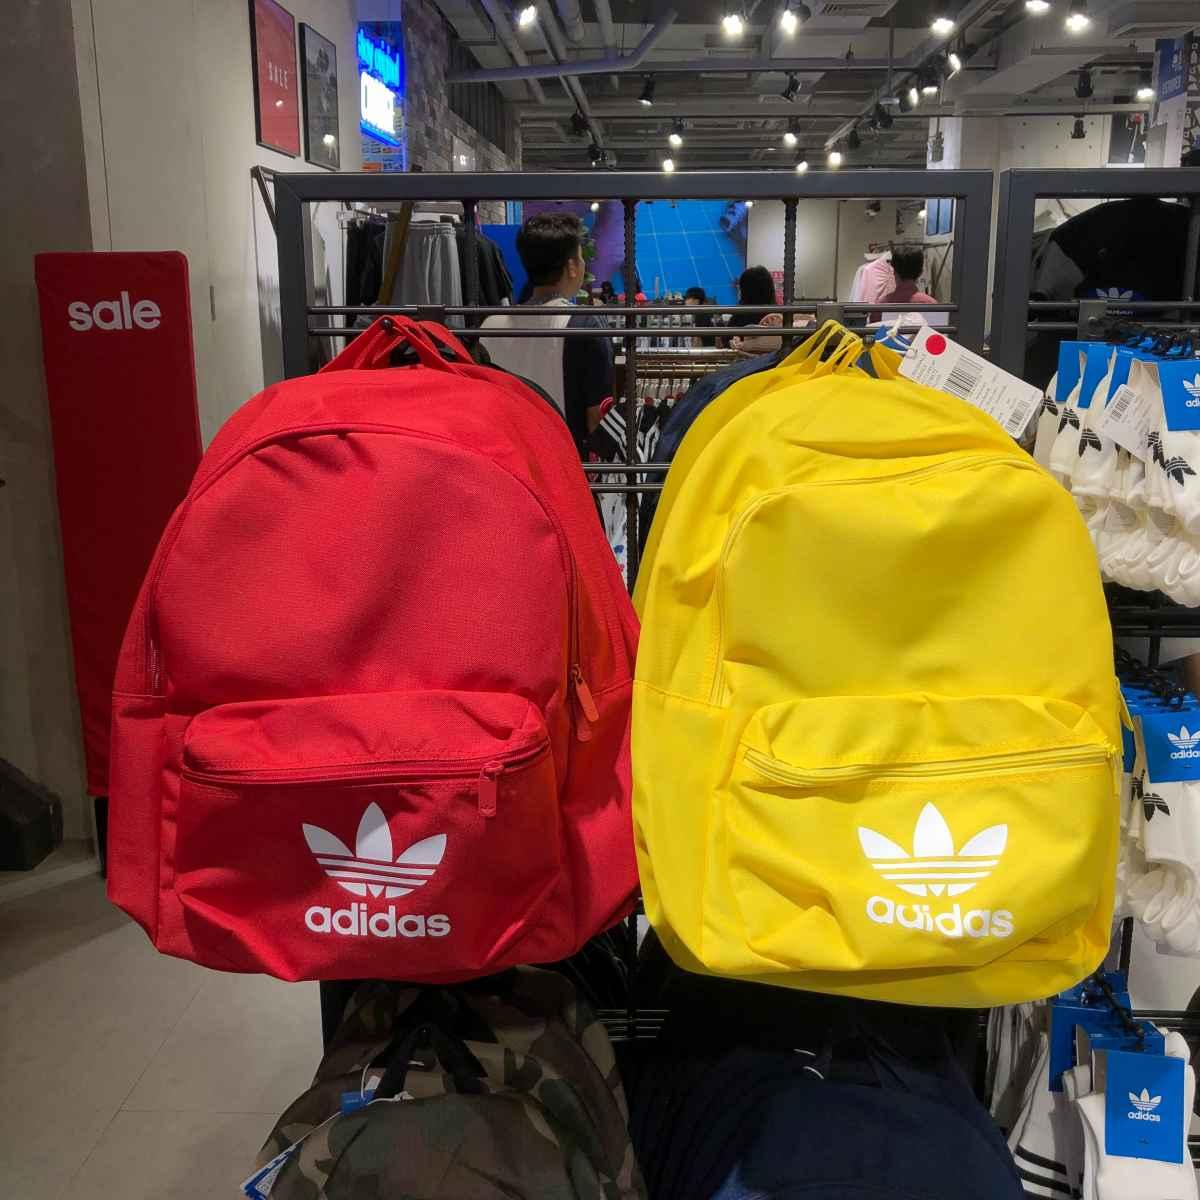backpack: (102, 320, 641, 992)
